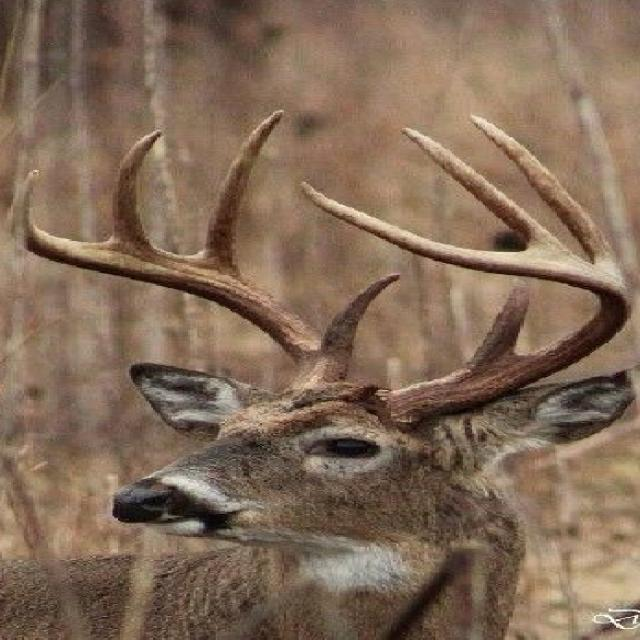L-F: (298, 180, 635, 431)
L-G1: (467, 281, 530, 366)
L-G2: (469, 115, 620, 272)
R-F: (7, 168, 349, 389)
R-G1: (322, 273, 401, 363)
R-G2: (198, 110, 288, 270)
R-G3: (104, 129, 164, 246)
